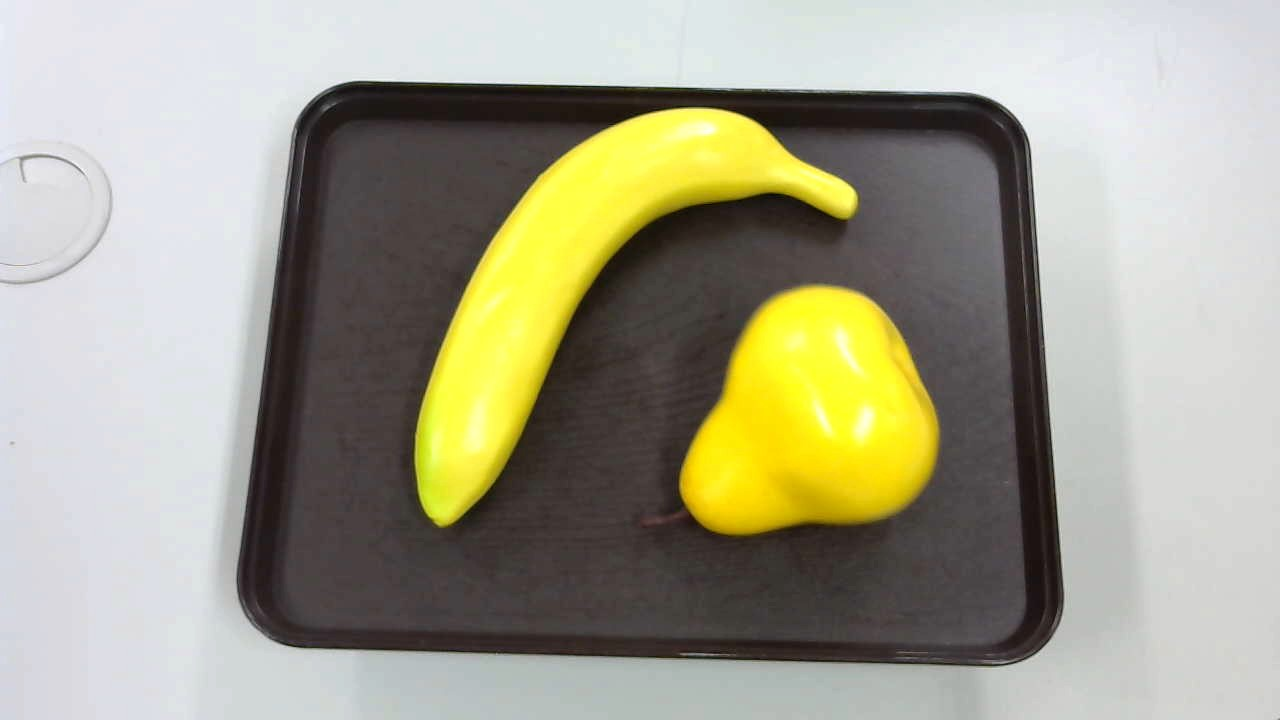banana: (393, 98, 854, 534)
yellow pear: (640, 283, 940, 541)
